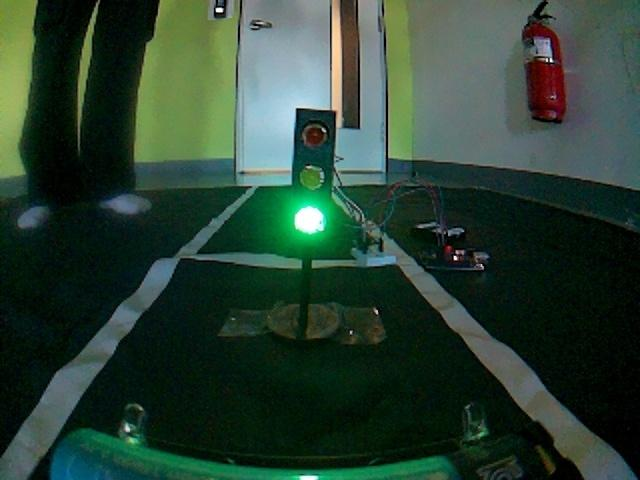go: (19, 360, 606, 480)
green_light: (225, 92, 388, 358)
